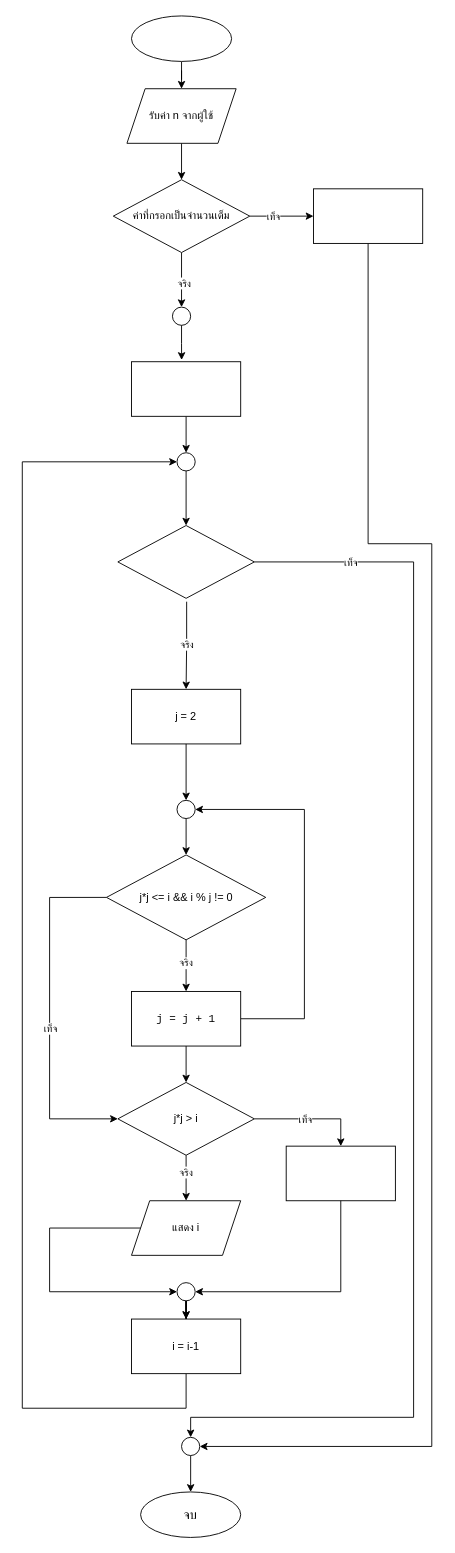
Some shapes in this 455 by 1553 pixel diagram are drawn without their labels. The centre of each missing label's shape, as x and y in pixels:
"i = n" belongs at (186,388).
"i >= 2" belongs at (185,561).
"เริ่ม" belongs at (181,38).
"โปรดใส่เลขจำนวนเต็ม" belongs at (368,215).
"ไม่ต้องแสดงค่า" belongs at (340,1173).
